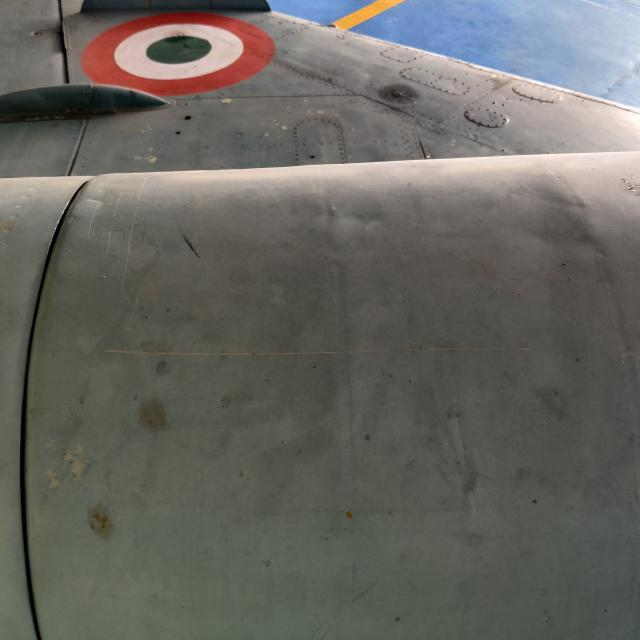scratch: (92, 328, 541, 374)
